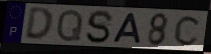8: (147, 12, 171, 47)
A: (110, 12, 143, 45)
C: (173, 14, 203, 47)
D: (23, 7, 55, 43)
Q: (55, 8, 85, 43)
S: (84, 9, 115, 45)
